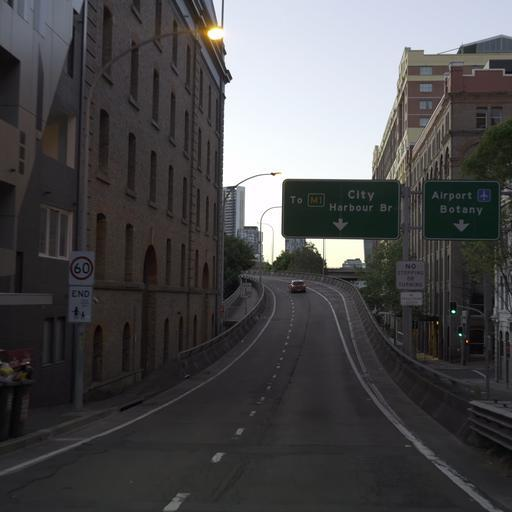Street light: (69, 19, 226, 410), (215, 169, 282, 335), (448, 300, 491, 395), (257, 205, 281, 278), (224, 169, 282, 190), (258, 221, 274, 265)
